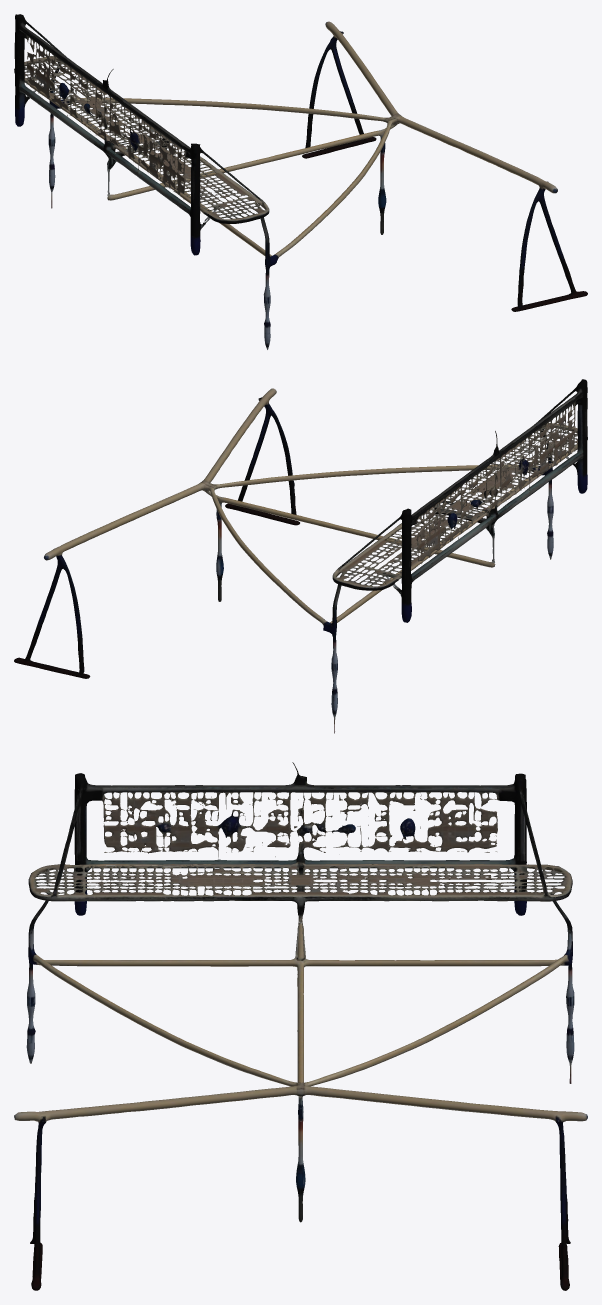
File: gymnastics_floor_environment_model_fbx.fbx
3 views of the same model, one above another, from view 1: azimuth 30°, elevation 25°; view 2: azimuth 150°, elevation 25°; view 3: azimuth 270°, elevation 25° (orthographic). The views are drawn at different scales.
Visible parts, largest first — view 1: mesh_ef1d; view 2: mesh_ef1d; view 3: mesh_ef1d.
Boxes of the visible parts, x1=… form: mesh_ef1d: x1=14, y1=14, x2=587, y2=349; mesh_ef1d: x1=14, y1=379, x2=587, y2=733; mesh_ef1d: x1=14, y1=762, x2=587, y2=1290.
Bounding box in the file's own units: 1.97 × 1.2 × 2.06.
Materials: 1 (1 with a texture image).
